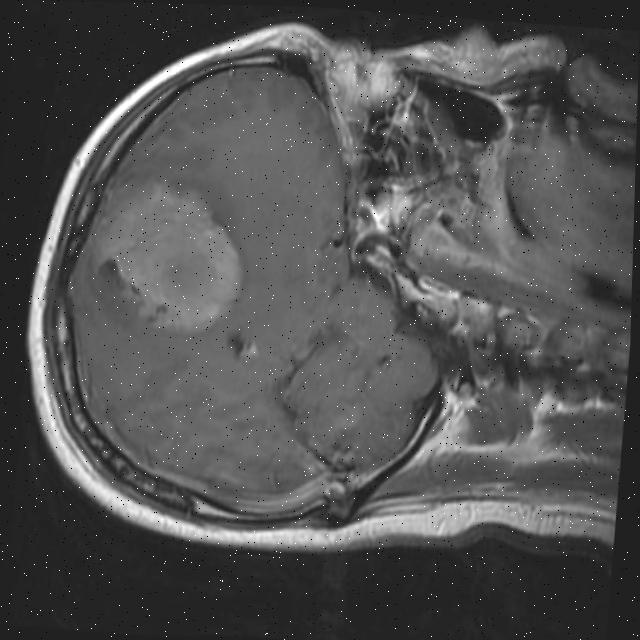Meningioma: (86, 172, 255, 342)
